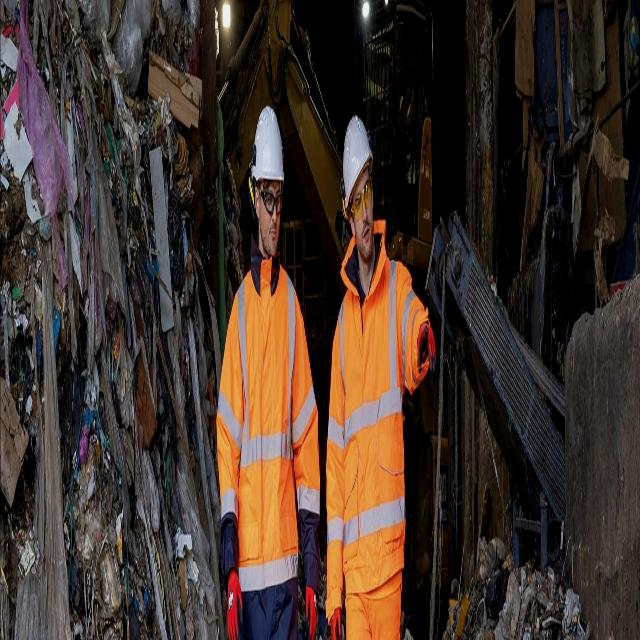face_nomask: (346, 164, 375, 266), (256, 180, 284, 261)
glasses: (351, 173, 373, 224), (262, 182, 284, 221)
hand_glove: (223, 563, 247, 638), (416, 298, 436, 382), (326, 574, 342, 640), (302, 576, 318, 640)
head_helmet: (340, 113, 370, 206), (249, 108, 283, 189)
person: (214, 108, 318, 640), (325, 127, 427, 640)
vest: (218, 259, 320, 585), (332, 254, 412, 583)
